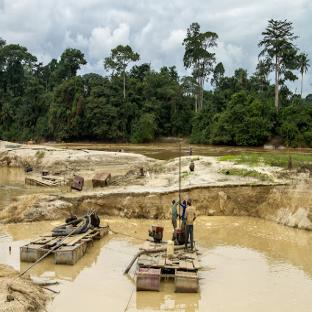ProcessingEquipment: (129, 200, 222, 312), (18, 210, 112, 269), (147, 216, 170, 246)
